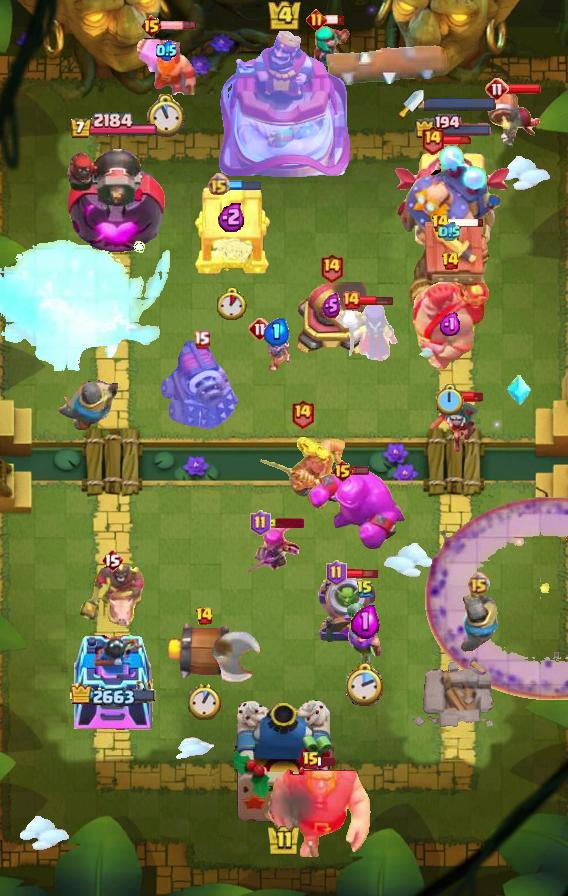axe: (332, 302, 400, 364)
balloon: (268, 759, 374, 857)
bar: (394, 142, 512, 256)
bomb: (192, 182, 272, 276)
bomb-tower: (345, 603, 385, 667)
clone: (307, 467, 407, 551)
electro-spirit: (351, 603, 380, 639), (218, 200, 246, 231), (264, 318, 290, 346), (438, 311, 461, 336), (322, 294, 342, 319), (438, 222, 461, 242), (156, 40, 177, 61)
elixir: (346, 661, 385, 707), (147, 94, 185, 138), (187, 683, 221, 721), (217, 288, 247, 321), (436, 385, 463, 416)
emote: (344, 567, 380, 581), (226, 177, 261, 190), (506, 83, 542, 95), (448, 391, 484, 403), (159, 21, 196, 32), (448, 217, 485, 228), (358, 294, 394, 305), (268, 518, 304, 528), (442, 135, 474, 145), (325, 14, 345, 26), (317, 756, 337, 767), (351, 465, 370, 476)
evolution-symbol: (242, 521, 300, 579)
firecracker: (58, 380, 118, 432), (458, 595, 497, 653)
freeze: (78, 563, 146, 629)
goblin: (261, 331, 293, 371)
goblin-cage: (316, 575, 380, 645)
goblin-hut: (256, 434, 348, 510)
golem: (160, 341, 242, 431)
king-tower: (218, 27, 350, 181), (234, 700, 334, 826)
king-tower-bar: (424, 97, 496, 111)
knight: (486, 89, 542, 149)
lava-hound: (409, 276, 491, 372)
little-prince: (395, 144, 503, 278)
mega-knight: (0, 223, 192, 397)
mighty-miner: (133, 31, 199, 95)
minion: (323, 41, 449, 91)
pad_2: (506, 374, 532, 406)
queen-tower: (73, 623, 155, 731)
rocket: (424, 496, 567, 700)
royal-giant: (208, 630, 264, 684)
royal-recruit: (292, 282, 370, 358)
selected: (69, 112, 159, 140), (70, 683, 158, 709), (414, 113, 494, 139)
sparky: (409, 221, 495, 319)
tesla: (428, 397, 478, 455)
text: (289, 399, 314, 430), (419, 125, 444, 155), (320, 252, 344, 283), (485, 77, 509, 101), (248, 317, 272, 341), (141, 14, 164, 38), (207, 172, 230, 196), (331, 459, 354, 483), (249, 510, 270, 536), (325, 560, 346, 586), (466, 573, 489, 596), (101, 548, 123, 572), (305, 9, 327, 30), (430, 213, 450, 233), (341, 290, 361, 310), (194, 606, 214, 626), (440, 251, 459, 271), (356, 579, 374, 599), (302, 751, 320, 771), (193, 330, 211, 349)
the-log: (164, 621, 244, 681)
tower-bar: (62, 138, 166, 256)
witch: (312, 24, 354, 76)
